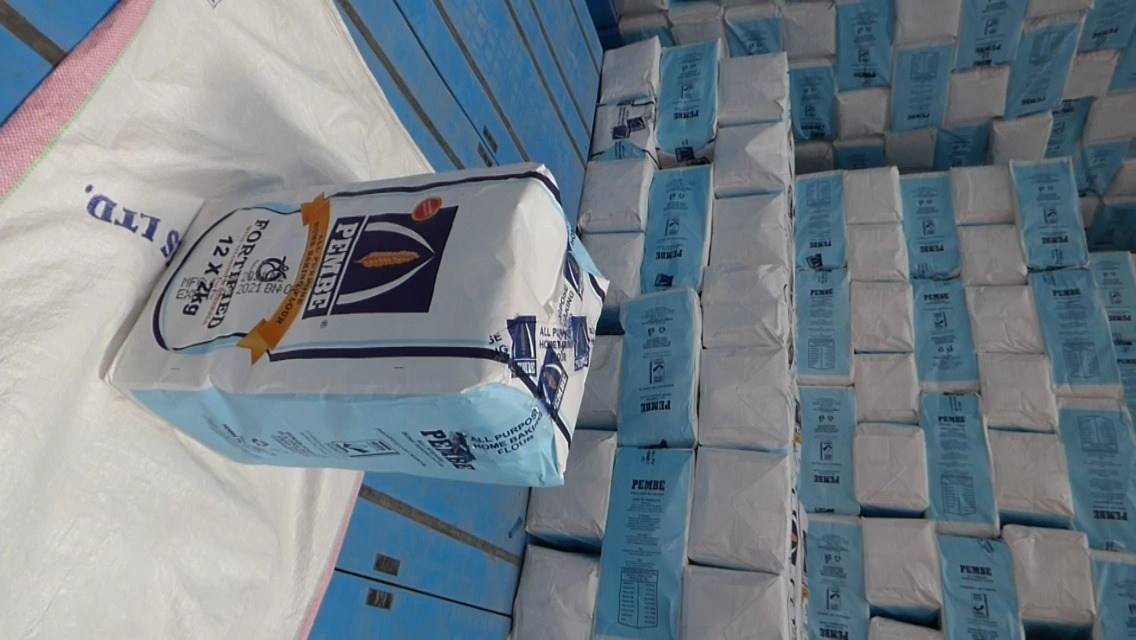wheat_flour_blue_label: (96, 161, 608, 483)
